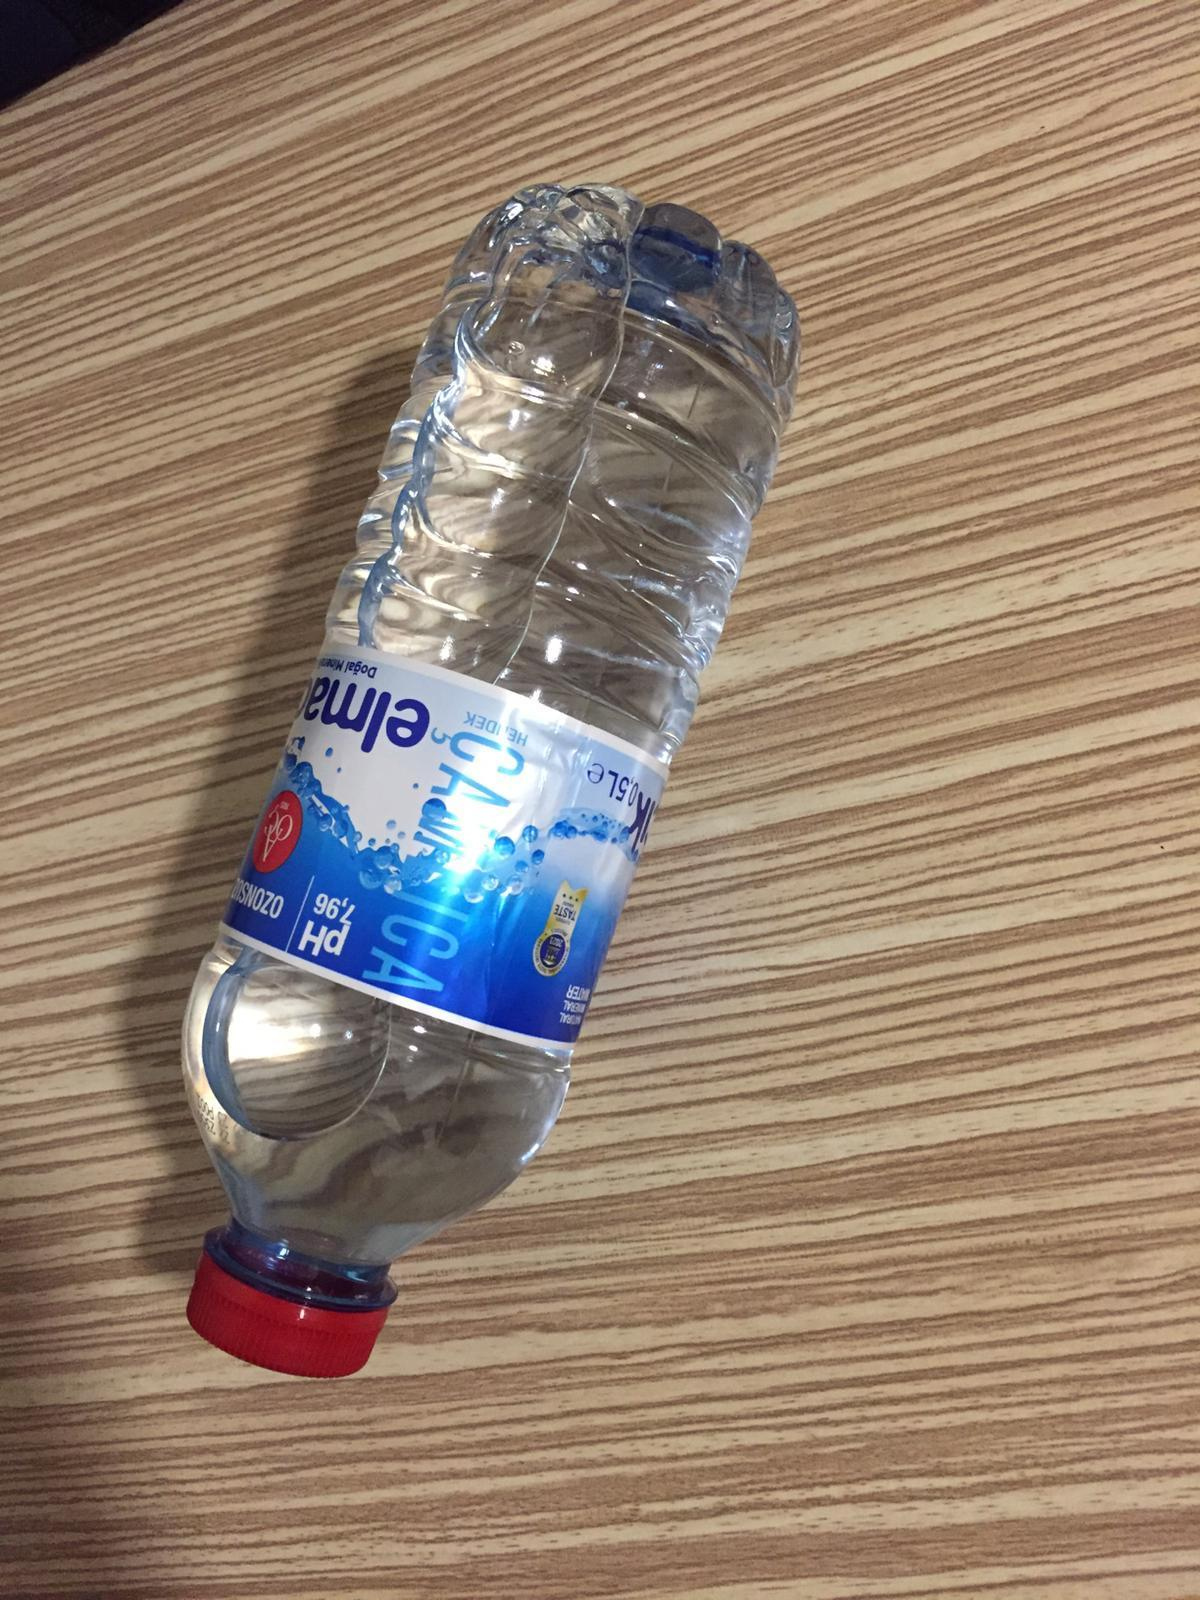bottle: (165, 171, 803, 1385)
